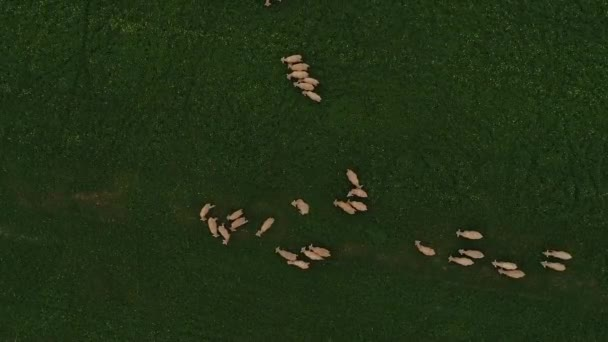sheep: (345, 166, 363, 191), (333, 198, 356, 216), (256, 215, 274, 237), (229, 214, 249, 233), (272, 246, 299, 260), (300, 245, 322, 262), (413, 238, 435, 255), (542, 249, 573, 261), (306, 244, 331, 258), (290, 198, 310, 215), (455, 228, 483, 240), (542, 259, 566, 272), (448, 255, 473, 267), (497, 268, 526, 278), (457, 248, 483, 259), (199, 202, 214, 221), (219, 223, 231, 246), (346, 186, 369, 198), (491, 260, 516, 271), (280, 54, 302, 66), (285, 258, 311, 268), (287, 69, 308, 80), (301, 91, 320, 103), (227, 209, 246, 221), (208, 217, 219, 237), (295, 81, 315, 91), (296, 77, 320, 85), (288, 63, 309, 72)
